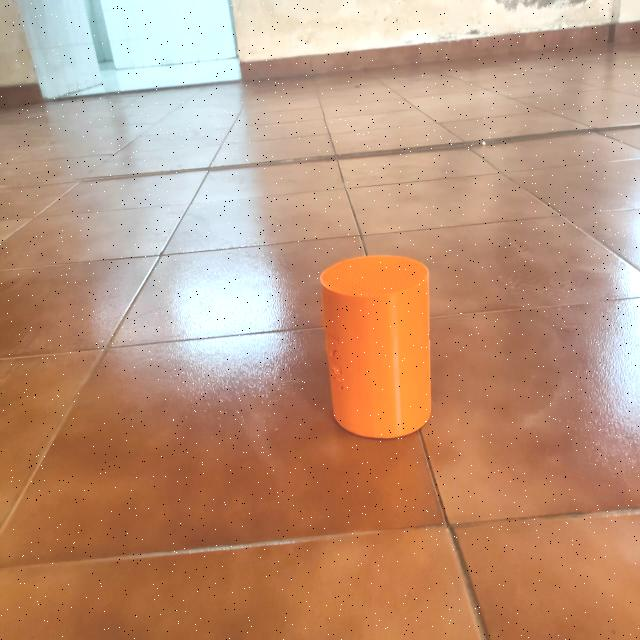Cylinder: (318, 253, 432, 439)
